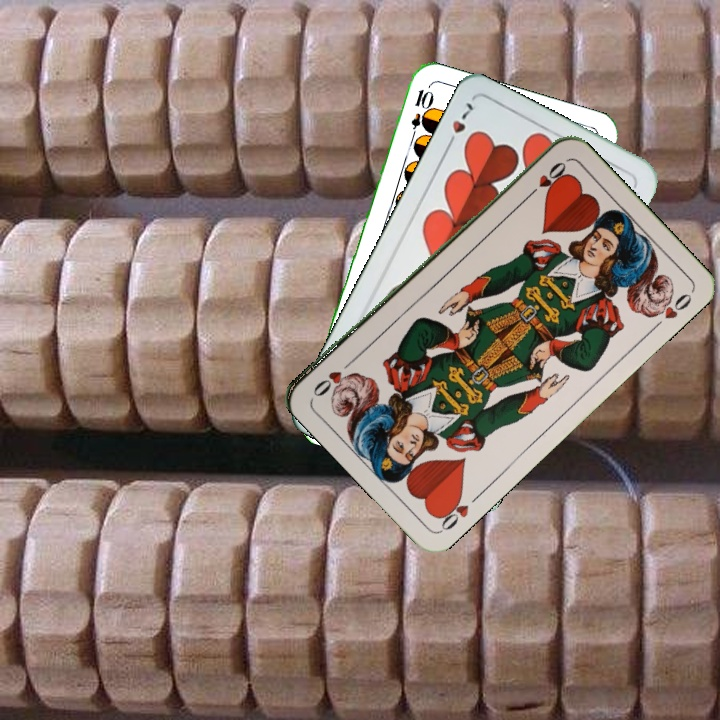E10: (406, 85, 433, 144)
H7: (442, 98, 476, 152)
HO: (431, 488, 484, 534), (522, 157, 569, 202)
